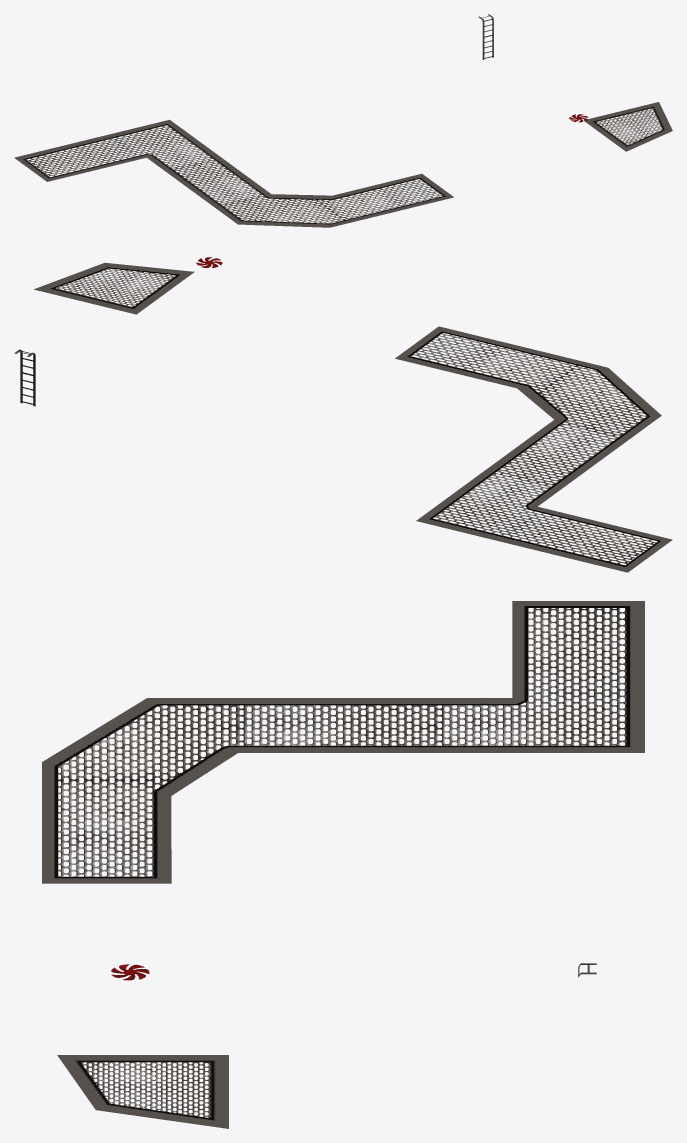
File: stairs.FBX
The picture shows the model from 3 angles, top to bottom: view 1: azimuth 30°, elevation 25°; view 2: azimuth 150°, elevation 25°; view 3: azimuth 270°, elevation 25°; orthographic projection. The views are drawn at different scales.
Visible parts, largest first — view 1: stairs_01; view 2: stairs_01, stairs_02; view 3: stairs_01.
Part boxes in pixels (box(x1,y1,x2,y2)): stairs_01: box(14, 102, 672, 227); stairs_01: box(33, 262, 672, 572); stairs_02: box(14, 349, 35, 406); stairs_01: box(42, 601, 644, 1128).
Size of the model in its own units: 6386 by 449 by 3083.
